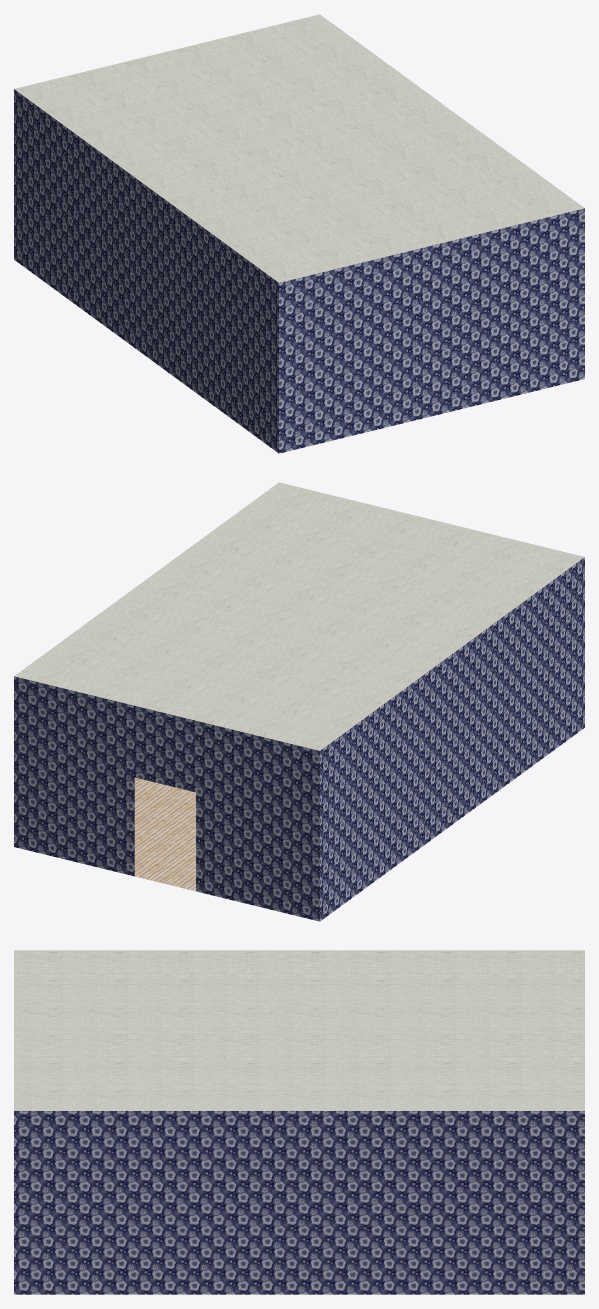
Rendered from Room 1 only.fbx.
3 views of the same model, one above another, from view 1: azimuth 30°, elevation 25°; view 2: azimuth 150°, elevation 25°; view 3: azimuth 270°, elevation 25° (orthographic). The views are drawn at different scales.
Parts seen in each view (by area): view 1: Cube, Cube.051; view 2: Cube, Cube.051, Cube.050; view 3: Cube, Cube.051.
Part boxes in pixels (x1,y1,x2,y2): Cube: [14, 89, 584, 453]; Cube.051: [14, 14, 584, 282]; Cube: [14, 557, 584, 921]; Cube.051: [14, 482, 584, 750]; Cube.050: [134, 777, 195, 891]; Cube: [14, 1111, 584, 1294]; Cube.051: [14, 950, 584, 1110].
Bounding box in the file's own units: 2409 × 1284 × 3615.
